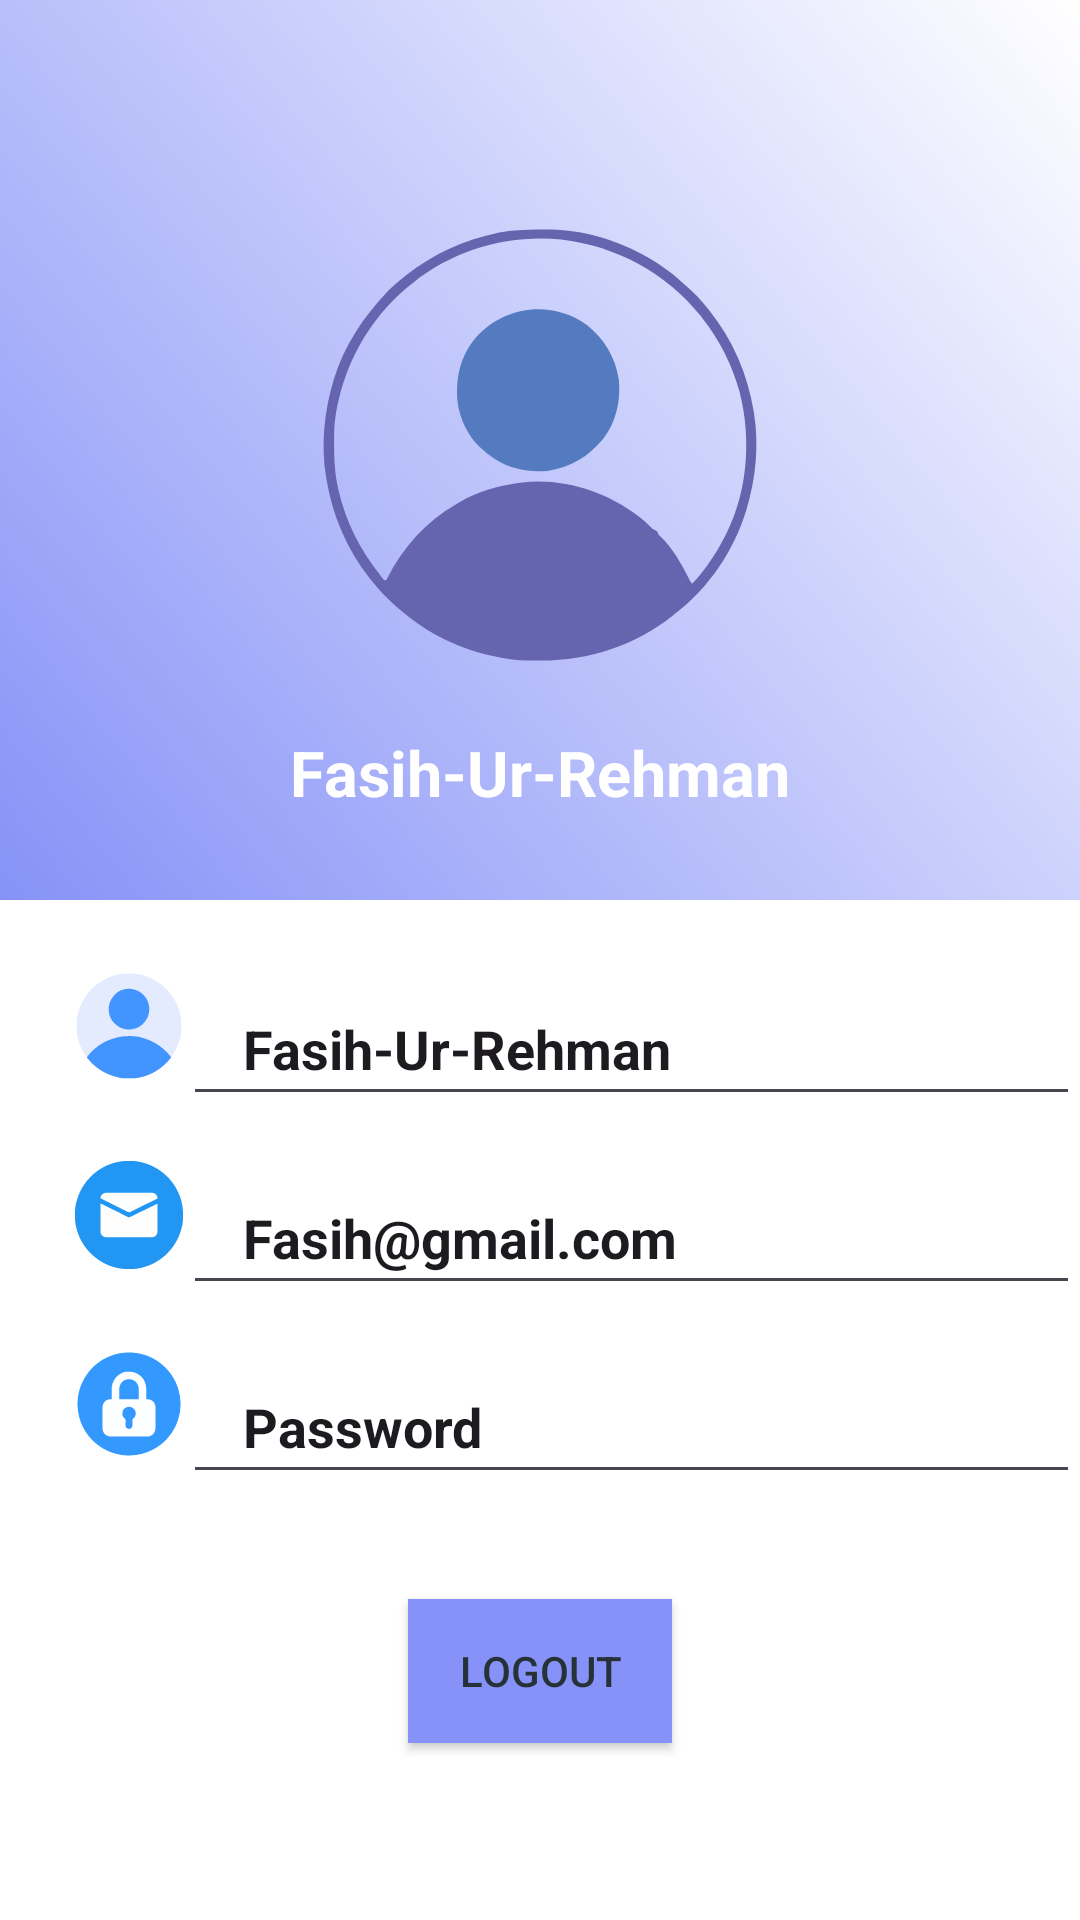

Locate icon controls on the screen. Image size 1080w x 1920h, boxes as (x1, y1, x2, y2).
lock: (77, 1352, 181, 1456)
user: (77, 974, 181, 1079)
